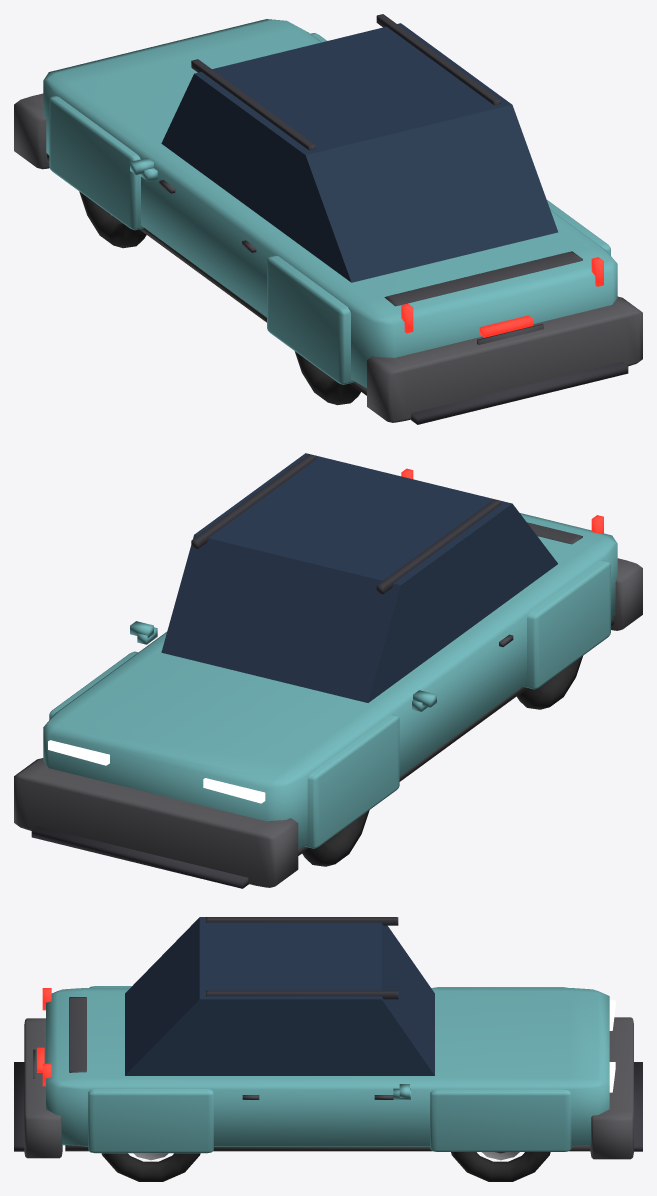
File: cuv.glb
3 renders of one model, top to bottom at view 1: azimuth 30°, elevation 25°; view 2: azimuth 150°, elevation 25°; view 3: azimuth 270°, elevation 25°, orthographic. The views are drawn at different scales.
Visible parts, largest first — view 1: GlassCanopy, Body, RearBumper, Fender-1F, Fender-1R, SkidRear, Spoiler, FrontBumper, Tire1, Tire3, RoofRail.001, RoofRail (+2 smaller); view 2: GlassCanopy, Body, FrontBumper, Fender-1F, Fender-1R, SkidFront, RearBumper, Tire1, Tire3, RoofRail.001, RoofRail, UnderBody (+2 smaller); view 3: Body, GlassCanopy, Fender+1F, Fender+1R, FrontBumper, RearBumper, Tire0, Tire2, UnderBody, RoofRail, Spoiler, RoofRail.001 (+2 smaller).
Boxes of the visible parts, x1,y1,x2,y2 form: GlassCanopy: (161,23,557,282); Body: (43,19,617,387); RearBumper: (367,296,642,422); Fender-1F: (49,96,143,230); Fender-1R: (267,255,354,384); SkidRear: (410,362,628,424); Spoiler: (384,251,582,306); FrontBumper: (14,93,49,169); Tire1: (79,191,146,248); Tire3: (294,351,360,405); RoofRail.001: (191,59,315,150); RoofRail: (376,14,500,105); GlassCanopy: (161,453,557,702); Body: (43,513,617,848); FrontBumper: (14,758,298,887); Fender-1F: (304,714,399,848); Fender-1R: (523,560,610,689); SkidFront: (31,826,248,888); RearBumper: (611,558,642,630); Tire1: (302,810,369,866); Tire3: (516,656,582,709); RoofRail.001: (376,499,500,594); RoofRail: (191,454,315,548); UnderBody: (298,618,613,855); Body: (46,988,609,1146); GlassCanopy: (125,917,434,1075); Fender+1F: (430,1089,571,1151); Fender+1R: (88,1089,213,1153); FrontBumper: (590,1017,633,1159); RearBumper: (24,1018,62,1158); Tire0: (451,1152,550,1181); Tire2: (101,1153,200,1181); UnderBody: (65,1145,590,1151); RoofRail: (206,990,398,999); Spoiler: (69,997,86,1072); RoofRail.001: (206,917,398,925).
Size of the model in its own units: 2.21 by 1.58 by 4.91.
